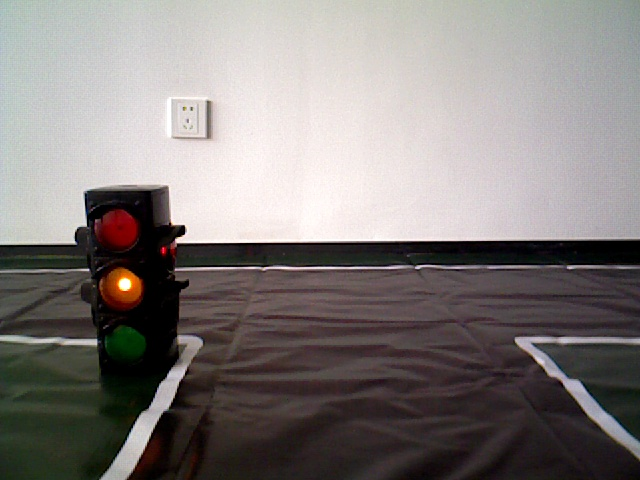yellow: (80, 187, 179, 365)
